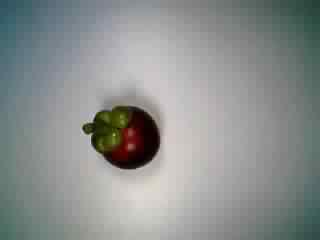mangosteen: (76, 101, 159, 176)
